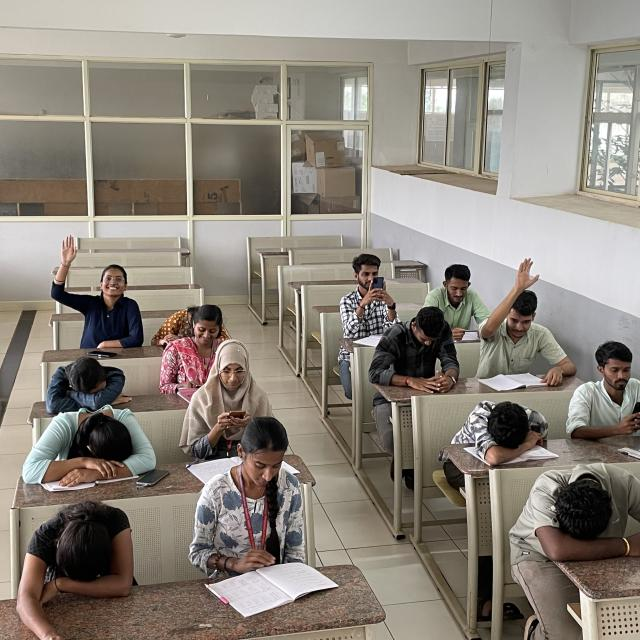Hand Rising: (47, 226, 147, 346), (476, 254, 565, 380)
Reading: (193, 414, 311, 574)
Sleeping: (9, 493, 139, 606), (519, 454, 638, 576), (21, 396, 161, 485), (442, 386, 558, 458), (37, 349, 143, 412), (148, 300, 221, 348)
Using Phone: (187, 344, 283, 456), (566, 343, 640, 444), (336, 249, 400, 335)
